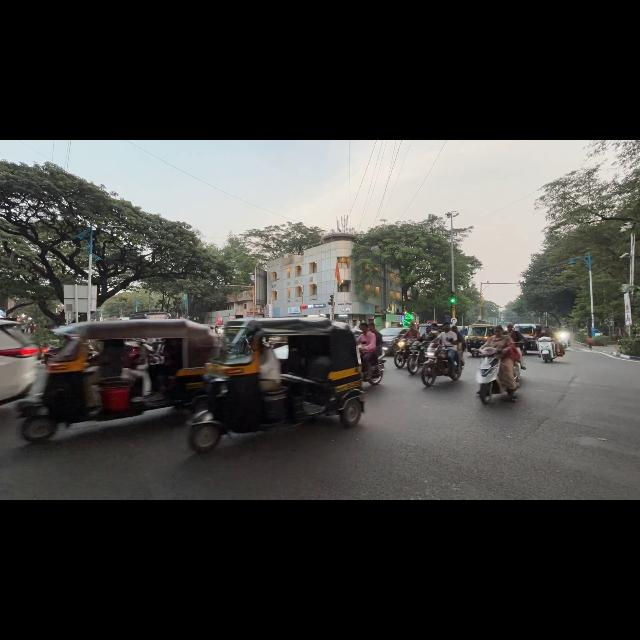bus: (129, 311, 170, 319)
car: (0, 320, 39, 404), (380, 328, 408, 355), (274, 343, 288, 361), (594, 329, 602, 336)
motorcycle: (422, 342, 461, 386), (476, 348, 506, 403), (363, 353, 385, 385), (407, 341, 428, 374), (394, 339, 412, 368), (538, 337, 557, 362), (559, 332, 569, 348)
